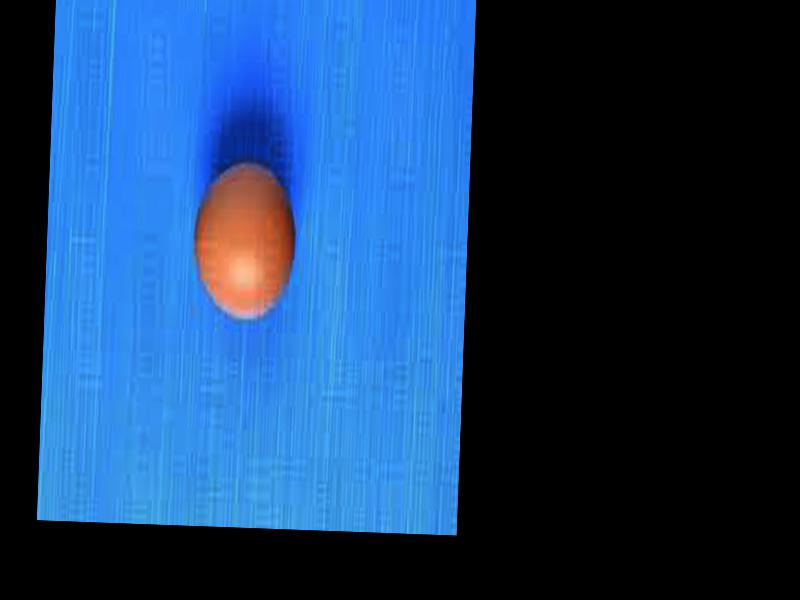Eggs: (192, 155, 297, 323)
